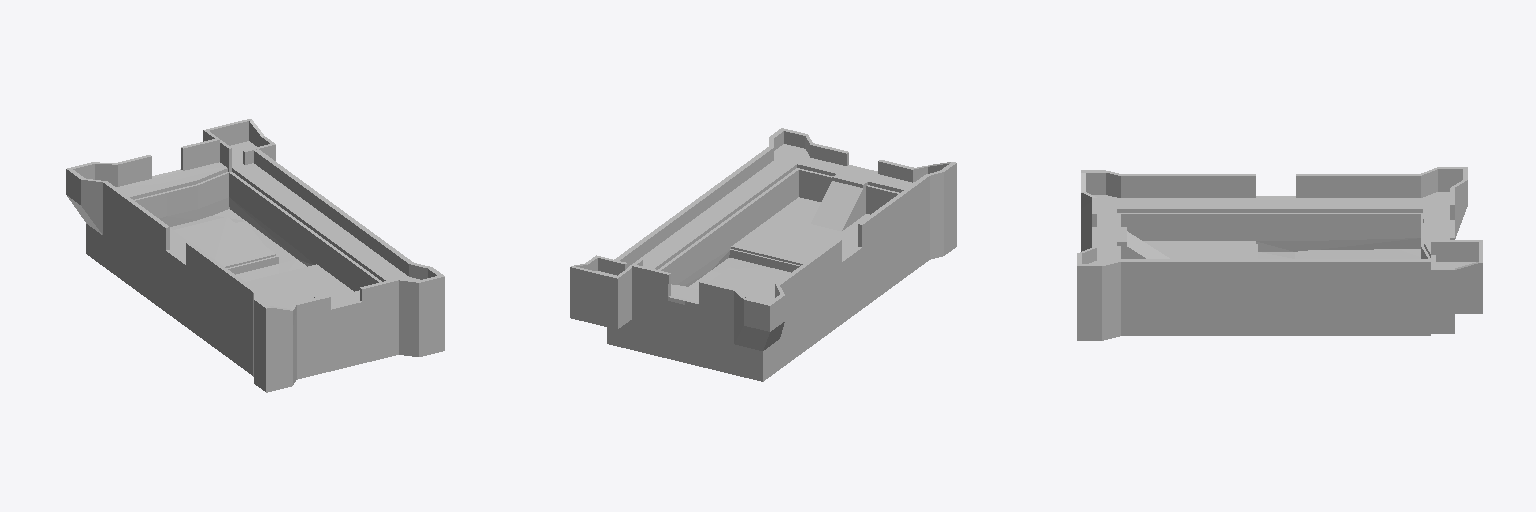
Rendered from GeneratorRoom2.obj.
The picture shows the model from 3 angles: view 1: azimuth 30°, elevation 25°; view 2: azimuth 150°, elevation 25°; view 3: azimuth 270°, elevation 25°; orthographic projection.
Visible parts, largest first — view 1: pCube1; view 2: pCube1; view 3: pCube1.
Part boxes in pixels (x1,y1,x2,y2): pCube1: (66, 119, 444, 392); pCube1: (570, 128, 956, 381); pCube1: (1077, 167, 1482, 340).
Size of the model in its own units: 8.96 by 3.75 by 16.4.